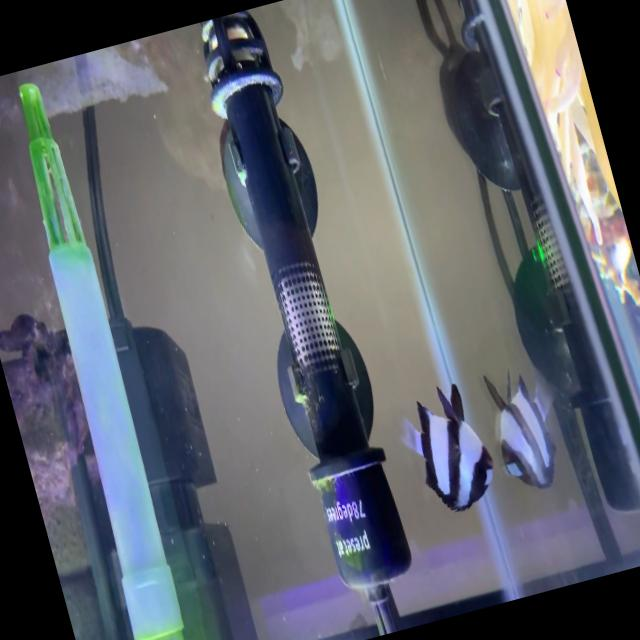ThreeStripedDamselfish: (400, 381, 491, 509)
